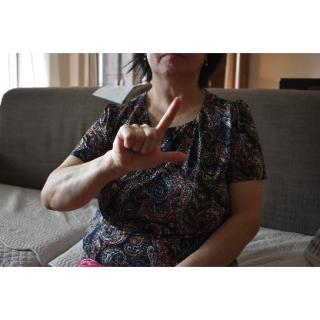LAAM: (111, 93, 196, 175)
